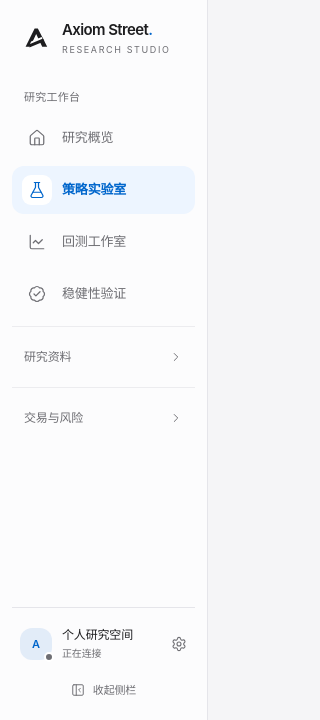
Test case: compact research navigation › keeps research visible and reveals secondary tools on demand
The width and height of the screenshot is (320, 720).
Expected: the link "研究笔记" is not shown
Click the button "研究资料" at (104, 357), box left=12, top=335, right=195, bottom=379
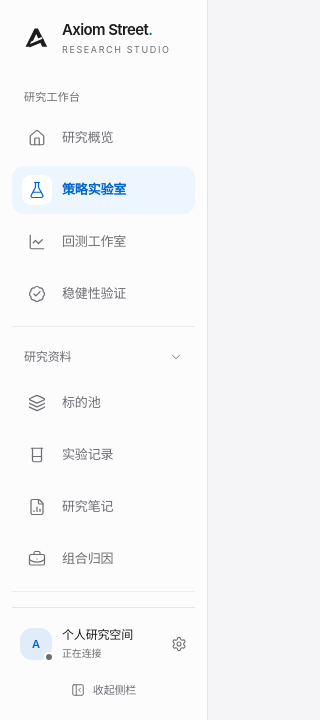
Expected: the link "研究笔记" is shown, left=28, top=498, right=113, bottom=516
